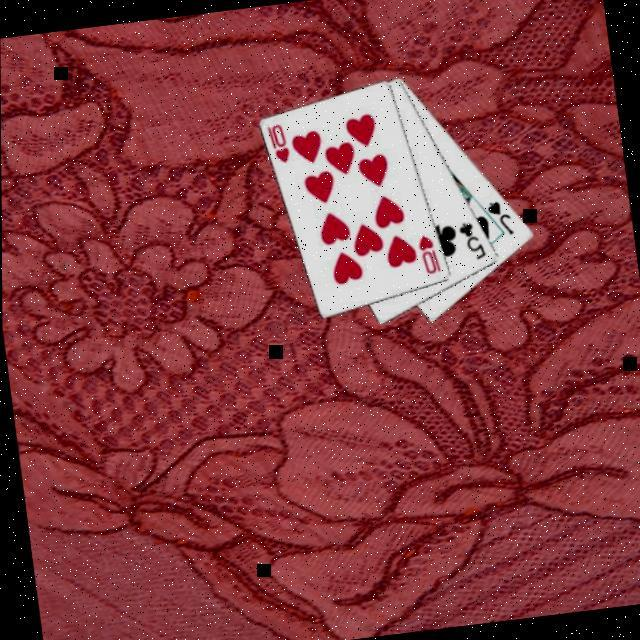10H: (261, 118, 291, 166), (412, 228, 441, 276)
5C: (452, 216, 487, 263)
JS: (479, 194, 514, 239)
